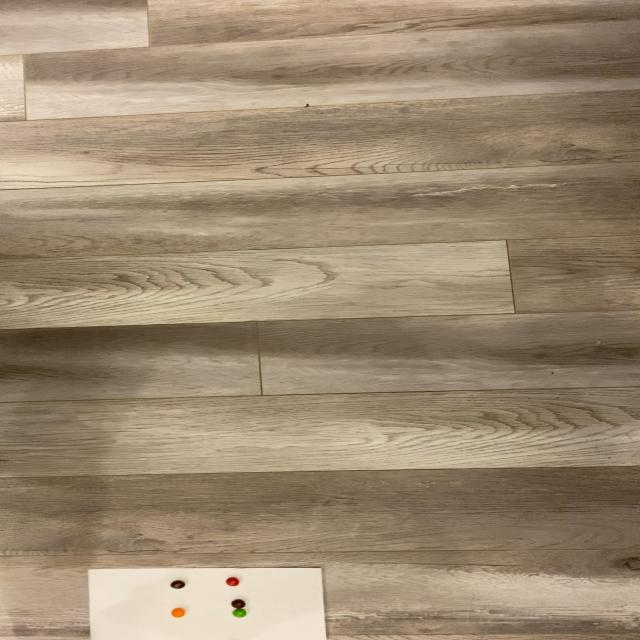smartie: (230, 600, 245, 610), (169, 609, 184, 619), (225, 578, 239, 588), (169, 581, 184, 590), (231, 610, 246, 619)
